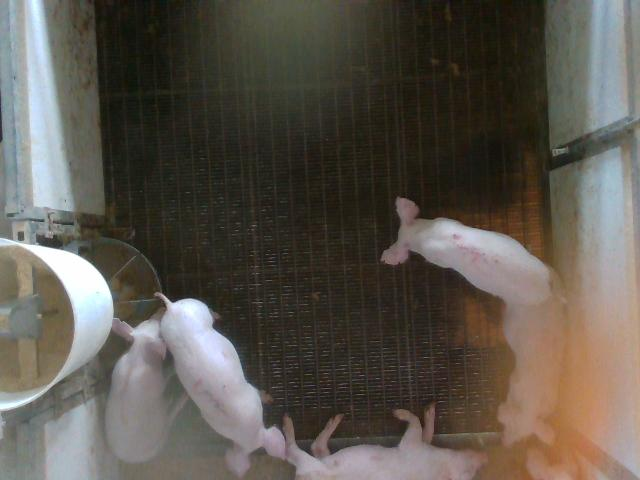pig-3: (160, 294, 285, 476)
pig-4: (498, 280, 564, 446)
pig-5: (383, 199, 551, 304)
